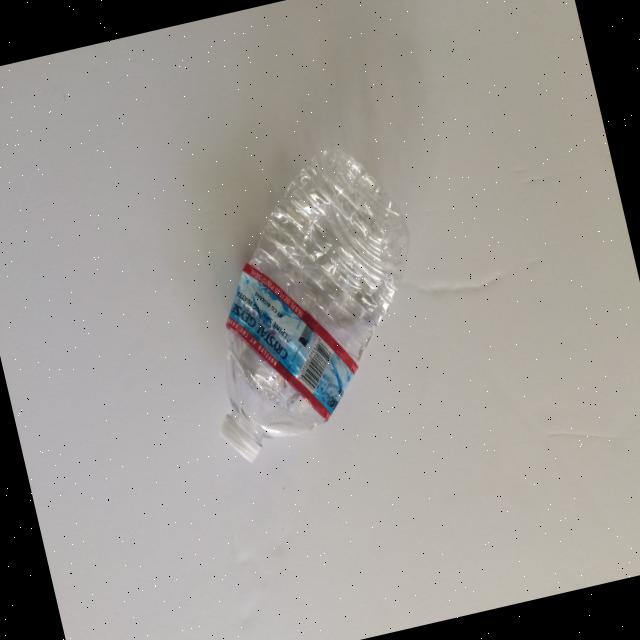plastic: (162, 132, 452, 468)
